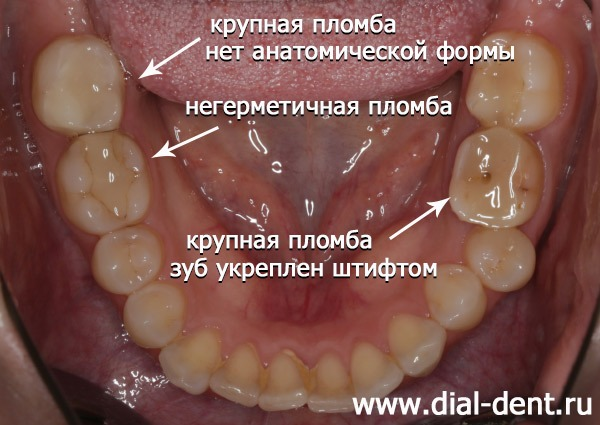LL1BC_healthy: (430, 265, 482, 329)
LL1M_decay: (452, 127, 545, 223)
LL2BC_healthy: (471, 225, 539, 291)
LL2M_decay: (470, 38, 561, 122)
LLCI_healthy: (310, 353, 356, 411)
LLC_healthy: (390, 313, 446, 375)
LLLI_healthy: (350, 343, 401, 401)
LR1BC_healthy: (127, 280, 184, 346)
LR1M_healthy: (64, 140, 150, 225)
LR2BC_healthy: (95, 230, 162, 288)
LR2M_healthy: (39, 38, 120, 133)
LRCI_healthy: (262, 351, 309, 411)
LRC_healthy: (170, 329, 217, 395)
LRLI_healthy: (221, 337, 266, 409)
